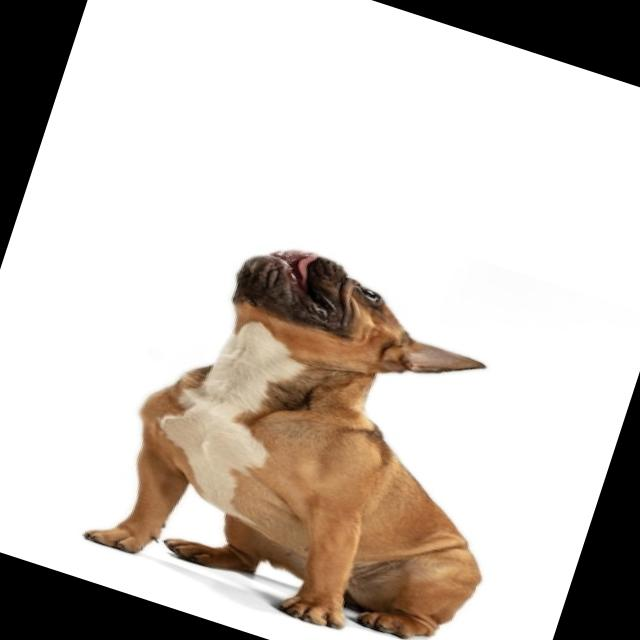Dog: (82, 210, 560, 640)
